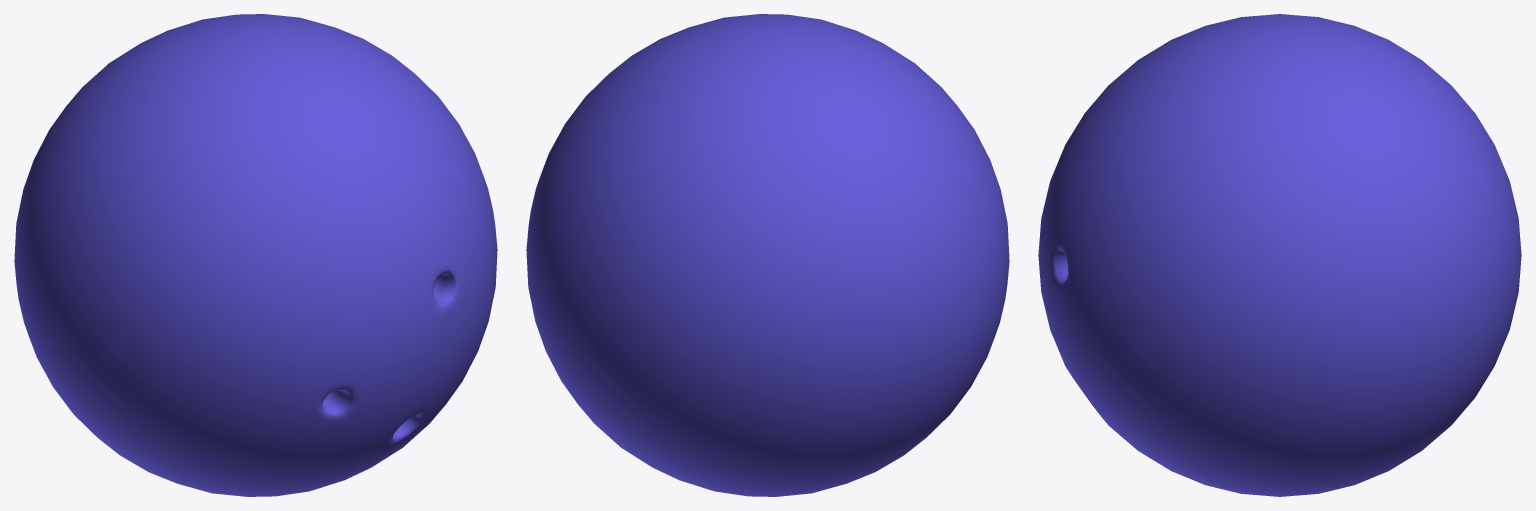
The model's file is BowlingBall.fbx.
3 views of the same model, side by side, from view 1: azimuth 30°, elevation 25°; view 2: azimuth 150°, elevation 25°; view 3: azimuth 270°, elevation 25° (orthographic).
Parts seen in each view (by area): view 1: Icosphere; view 2: Icosphere; view 3: Icosphere.
Part boxes in pixels (x1=…): Icosphere: x1=14, y1=14, x2=497, y2=496; Icosphere: x1=526, y1=14, x2=1009, y2=496; Icosphere: x1=1038, y1=14, x2=1521, y2=496.
Size of the model in its own units: 60.23 by 60.23 by 60.23.
